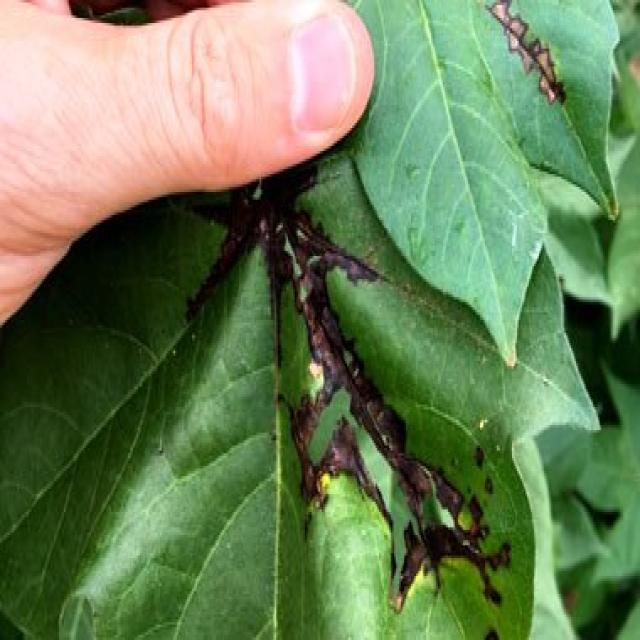Bacterial Blight: (250, 193, 528, 608)
